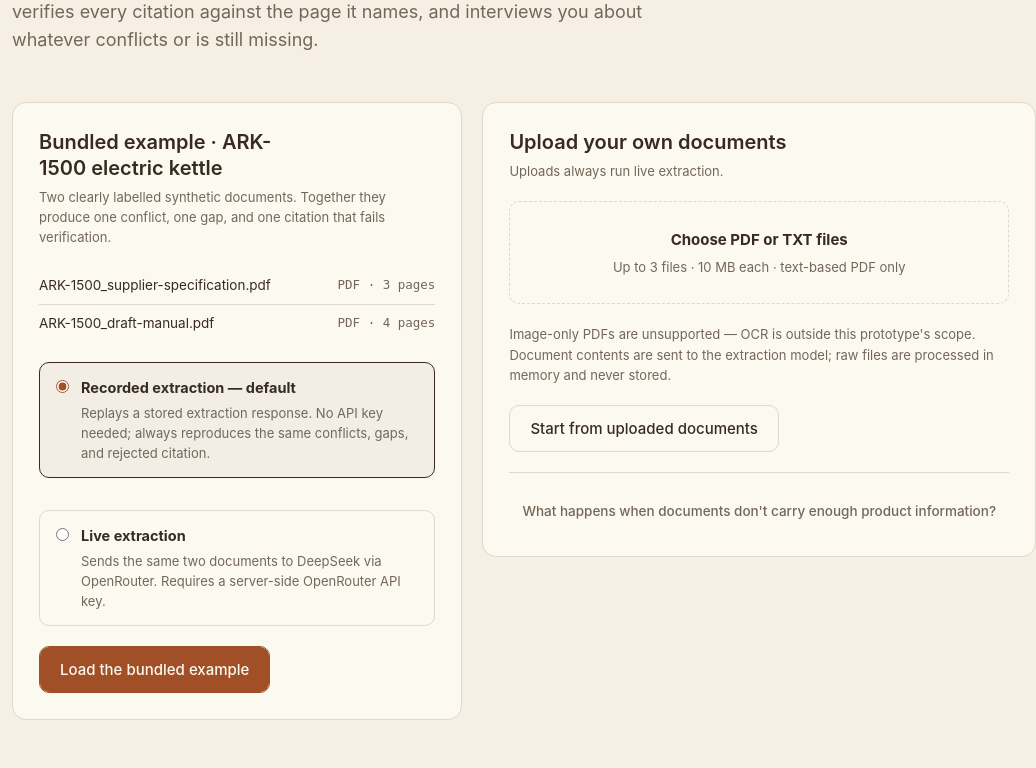
Scenario: Intake › reveals the coverage-gate note when the help link is clicked
(page scrolled)
Click the button "don't carry enough product information": (759, 512) [509, 493, 1009, 530]
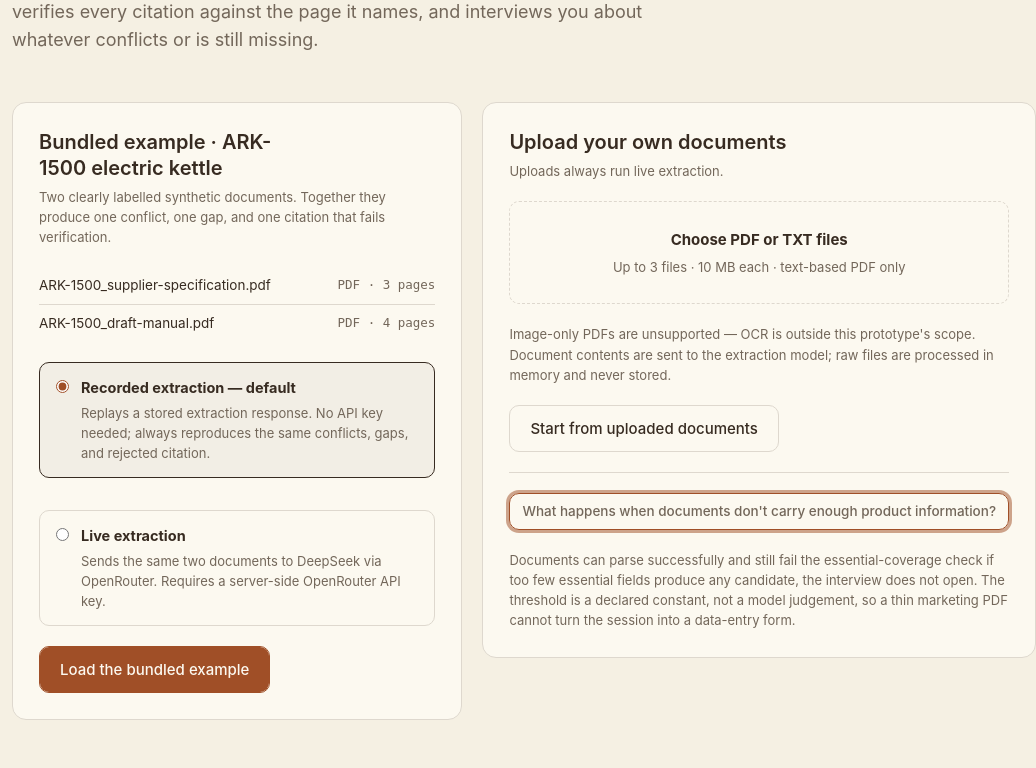
Now the text "declared constant, not a model judgement" is shown, box [509, 552, 1008, 628]
